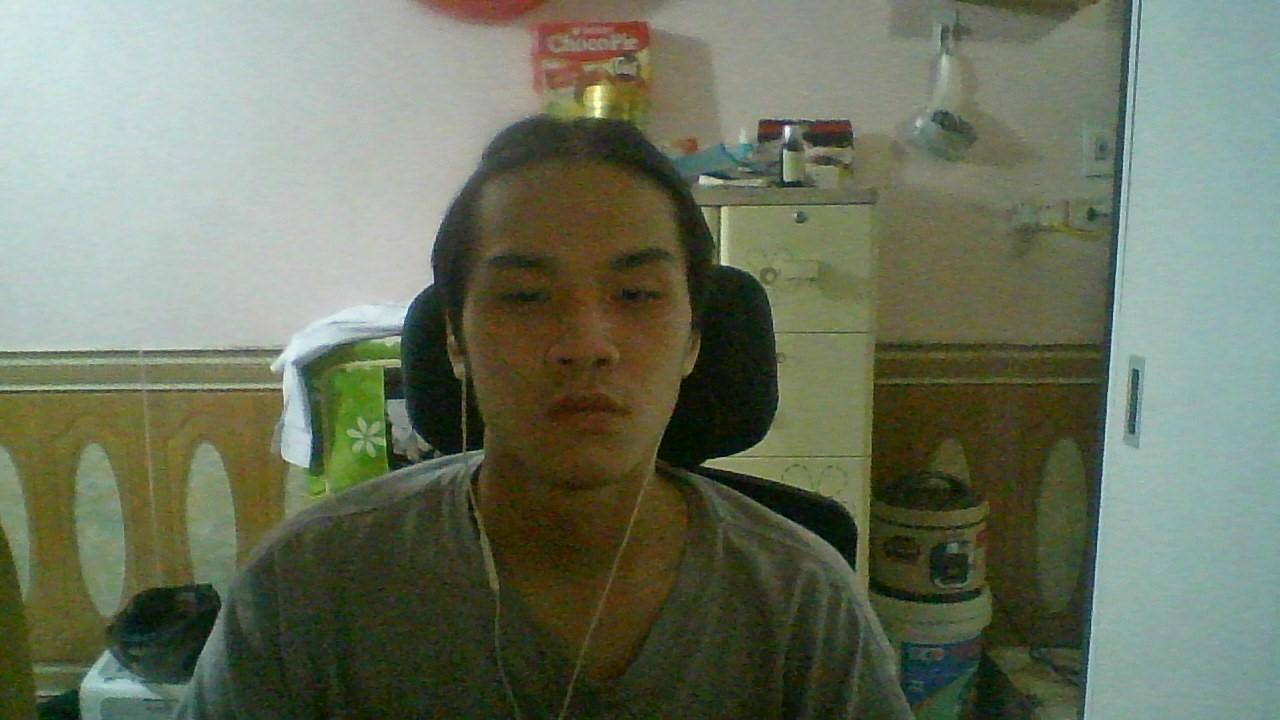Drowsy: (424, 115, 707, 485)
